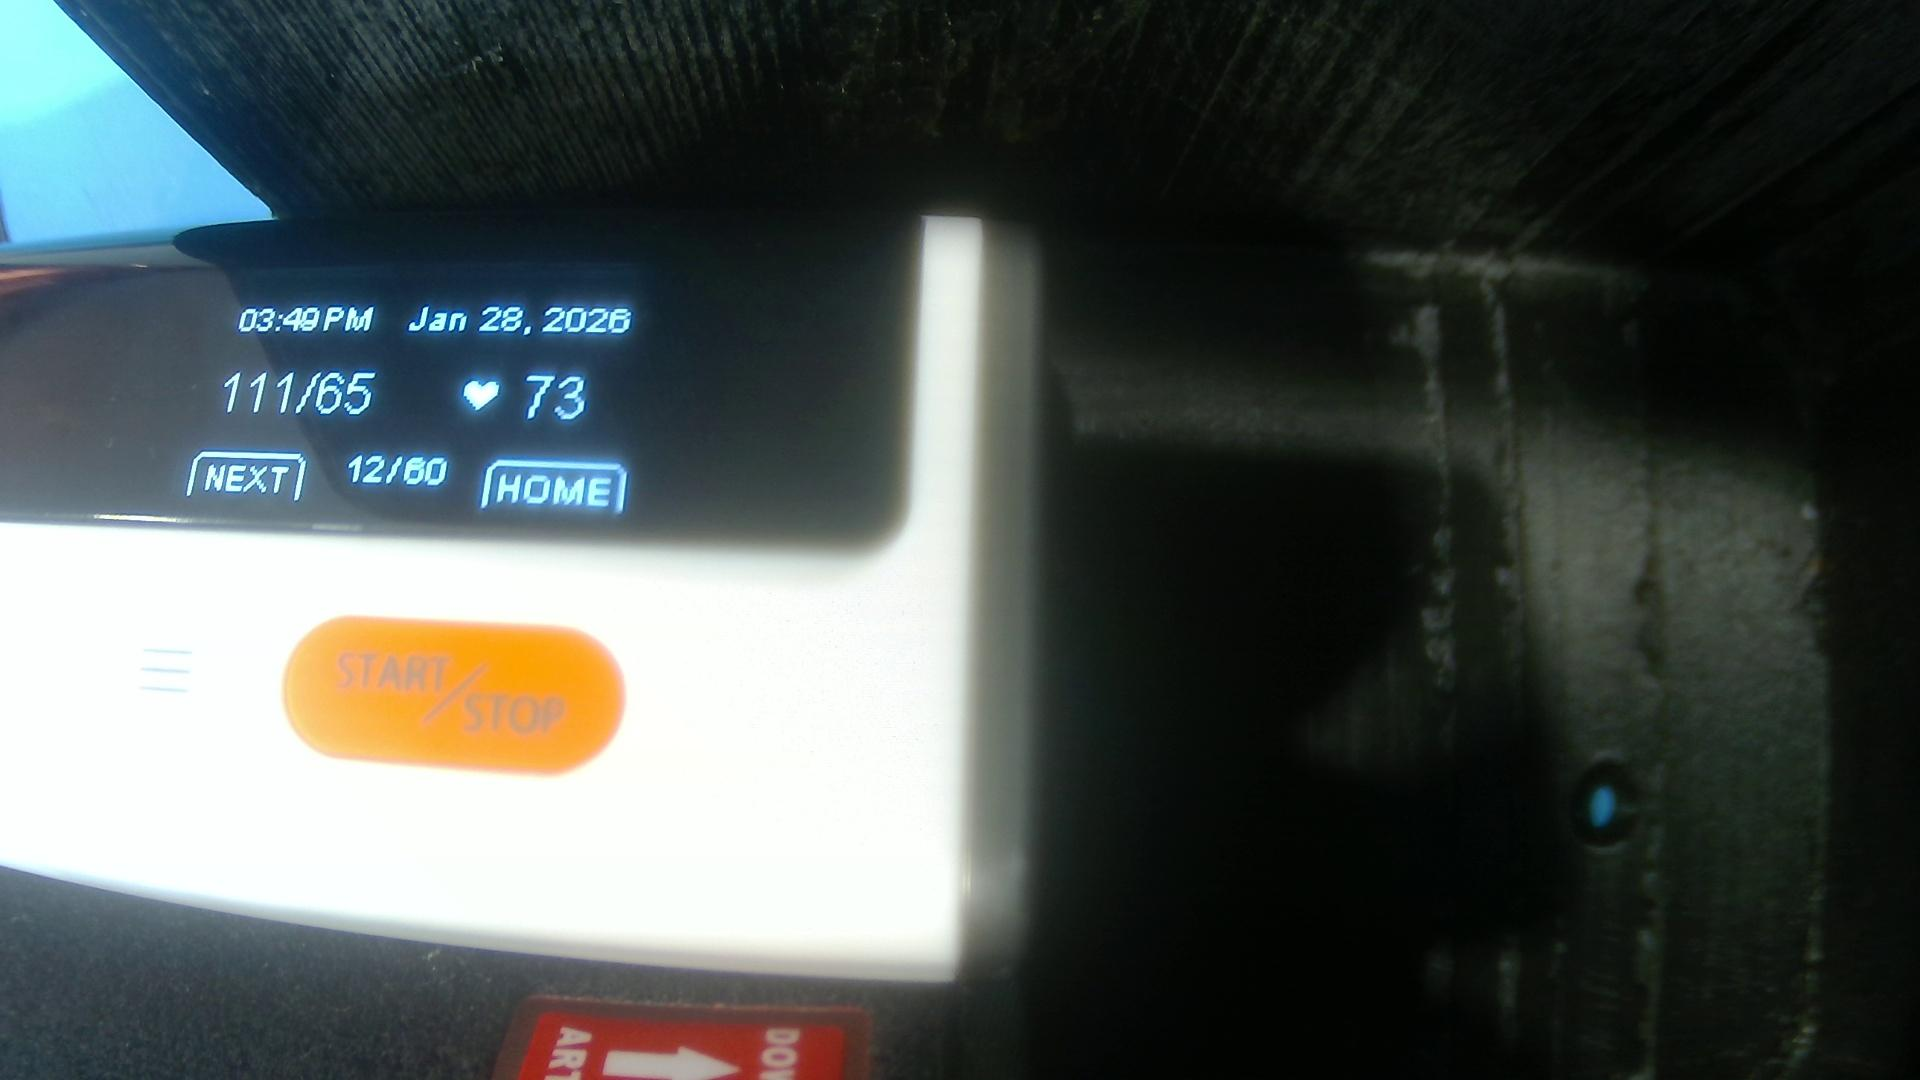DISPLAY: (9, 219, 903, 557)
